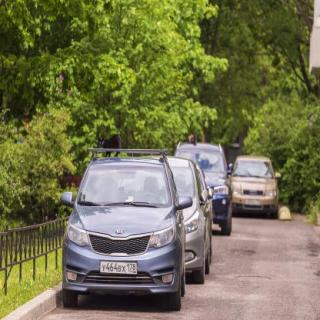Normal_vehicle: (62, 149, 192, 309)
